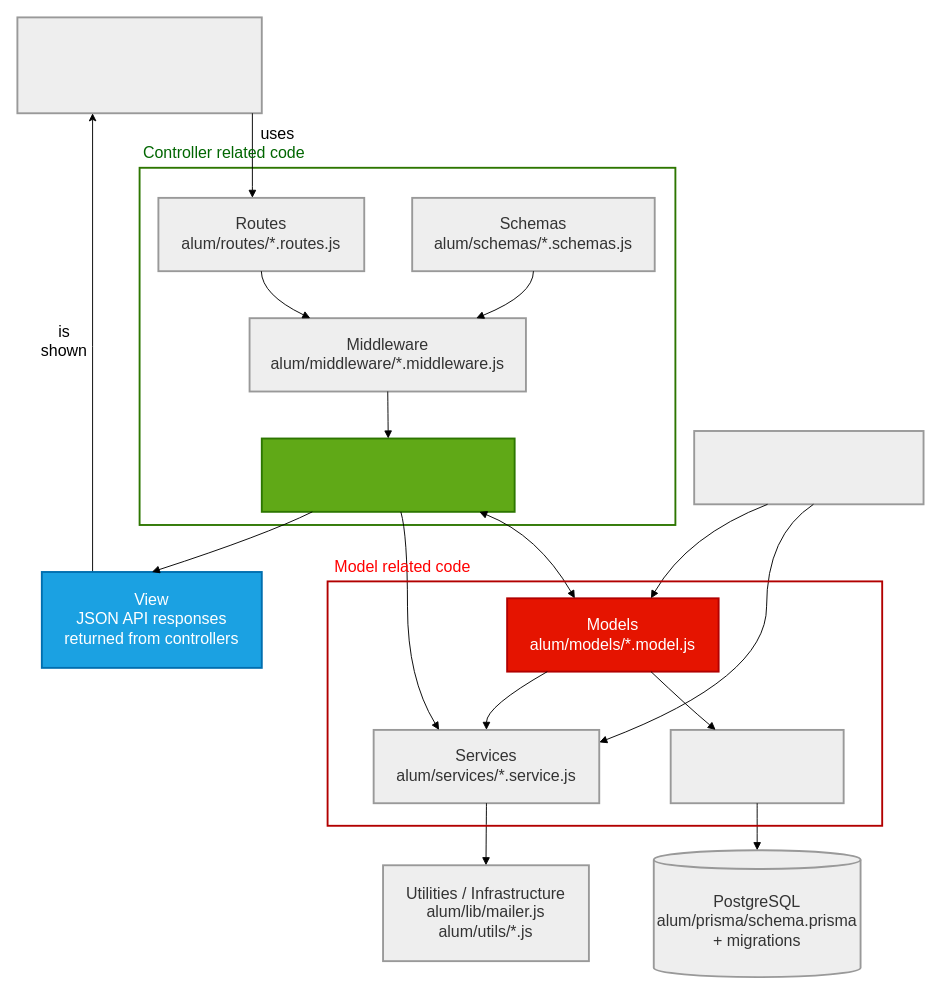
The diagram is 940 pixels wide and 994 high, and some of its shapes have lost their labels. The shapes that lost their labels are listed below. From the top down, each one's box as (x1, y1, x2, y2) in pixels, then its label:
(16, 16, 262, 114): Client Browser / Postman / API Consumer
(260, 437, 515, 512): Controllers alum/controllers/*.controller.js
(693, 430, 924, 505): Background Worker alum/workers/scheduler.js
(669, 728, 844, 804): Database Access alum/lib/prisma.js
